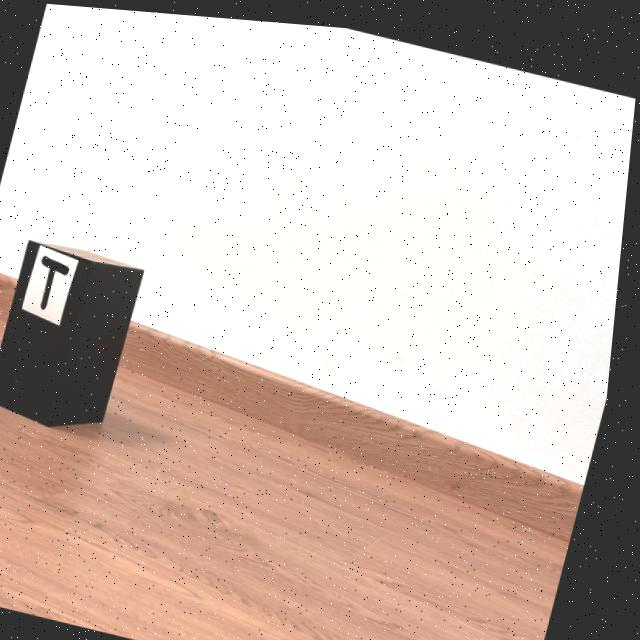T: (46, 254, 74, 309)
